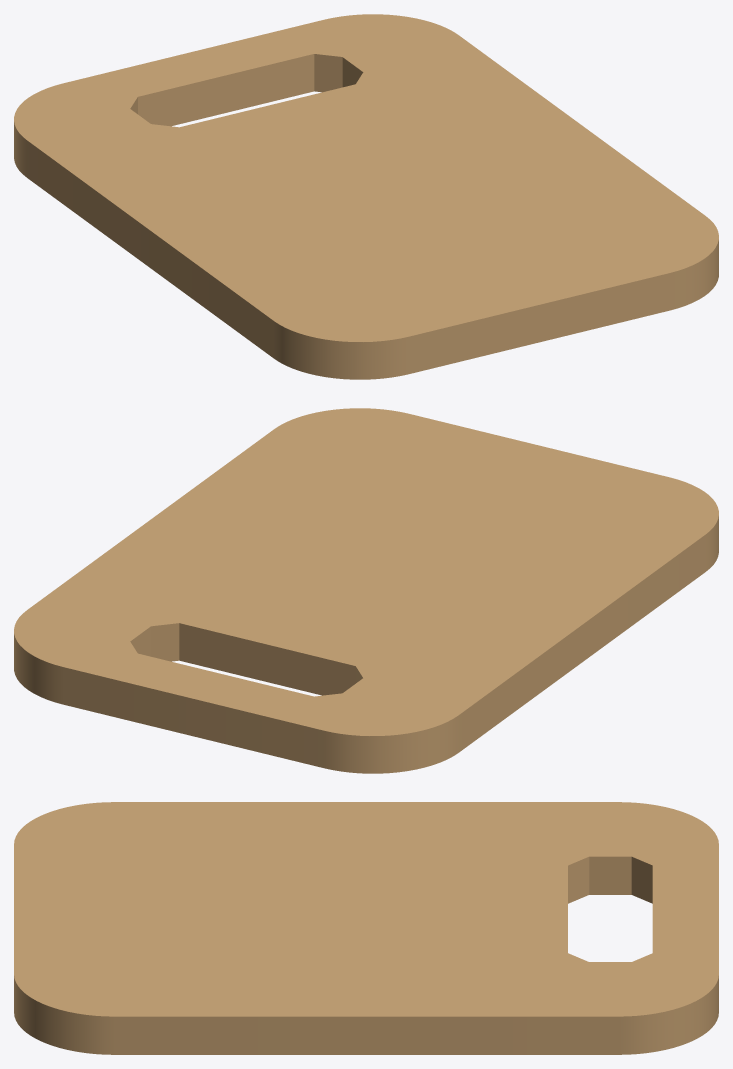
The picture shows the model from 3 angles, top to bottom: view 1: azimuth 30°, elevation 25°; view 2: azimuth 150°, elevation 25°; view 3: azimuth 270°, elevation 25°; orthographic projection.
Parts seen in each view (by area): view 1: board; view 2: board; view 3: board.
Part boxes in pixels (x1,y1,x2,y2): board: (14, 14, 718, 379); board: (14, 408, 718, 773); board: (14, 802, 718, 1054).
Bounding box in the file's own units: 0.252 × 0.021 × 0.35.
